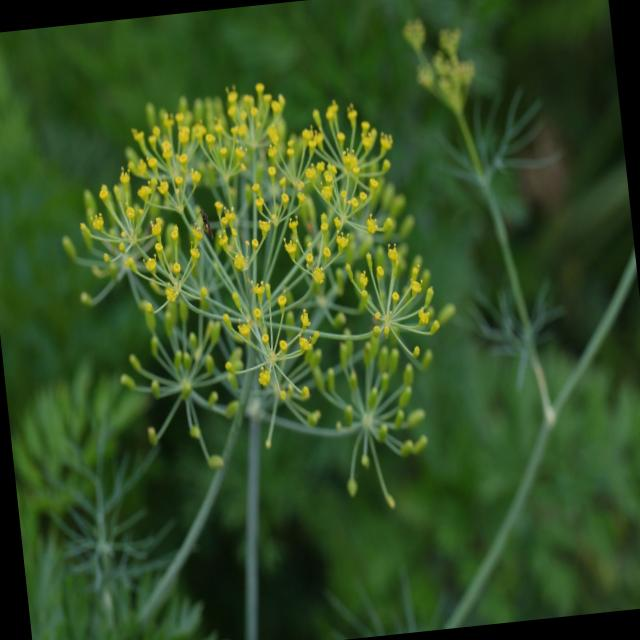Dill: (28, 46, 486, 560), (389, 0, 579, 252)
